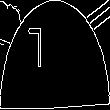L_S: (47, 29, 63, 81)
